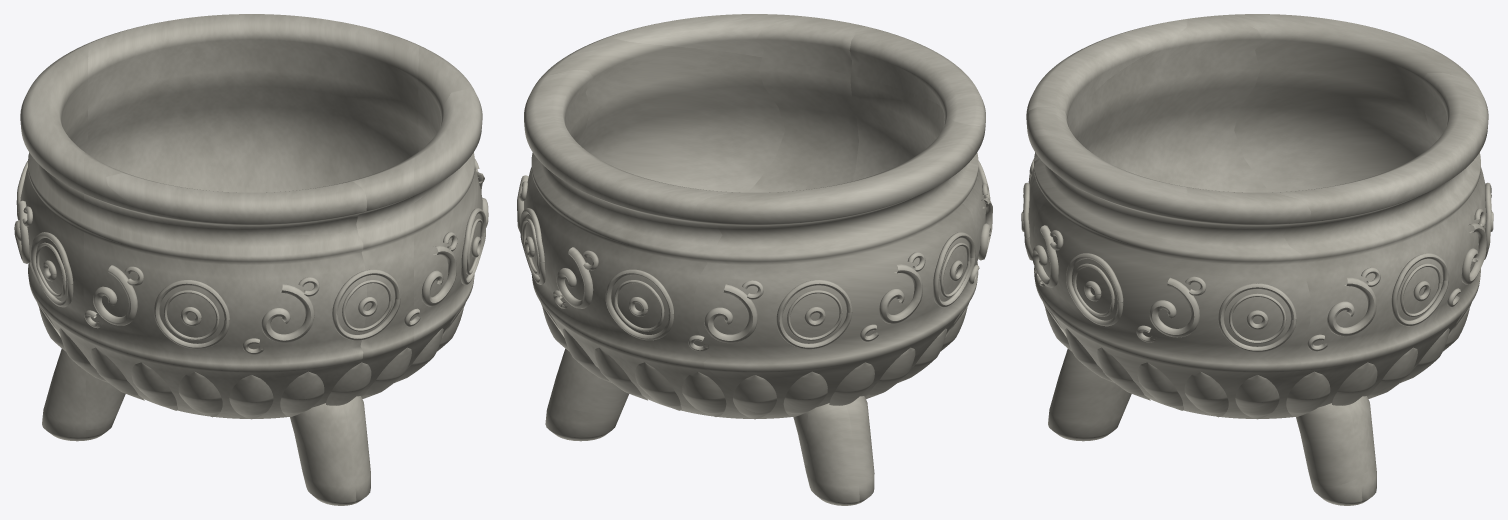
The model's file is StoneCenser_LOD0.obj.
The picture shows the model from 3 angles, left to right: view 1: azimuth 30°, elevation 25°; view 2: azimuth 150°, elevation 25°; view 3: azimuth 270°, elevation 25°; orthographic projection.
Parts seen in each view (by area): view 1: StoneCenser_LOD0; view 2: StoneCenser_LOD0; view 3: StoneCenser_LOD0.
Part boxes in pixels (x1,y1,x2,y2): StoneCenser_LOD0: (14,14,488,505); StoneCenser_LOD0: (517,14,992,505); StoneCenser_LOD0: (1021,14,1493,505).
Bounding box in the file's own units: 0.6131 × 0.468 × 0.6131.
1 material, 1 textured.
